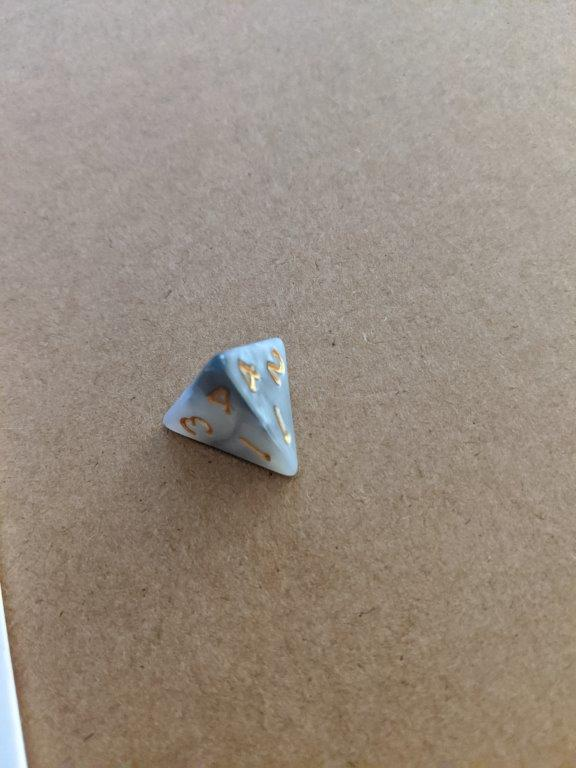d4-4: (159, 333, 301, 485)
